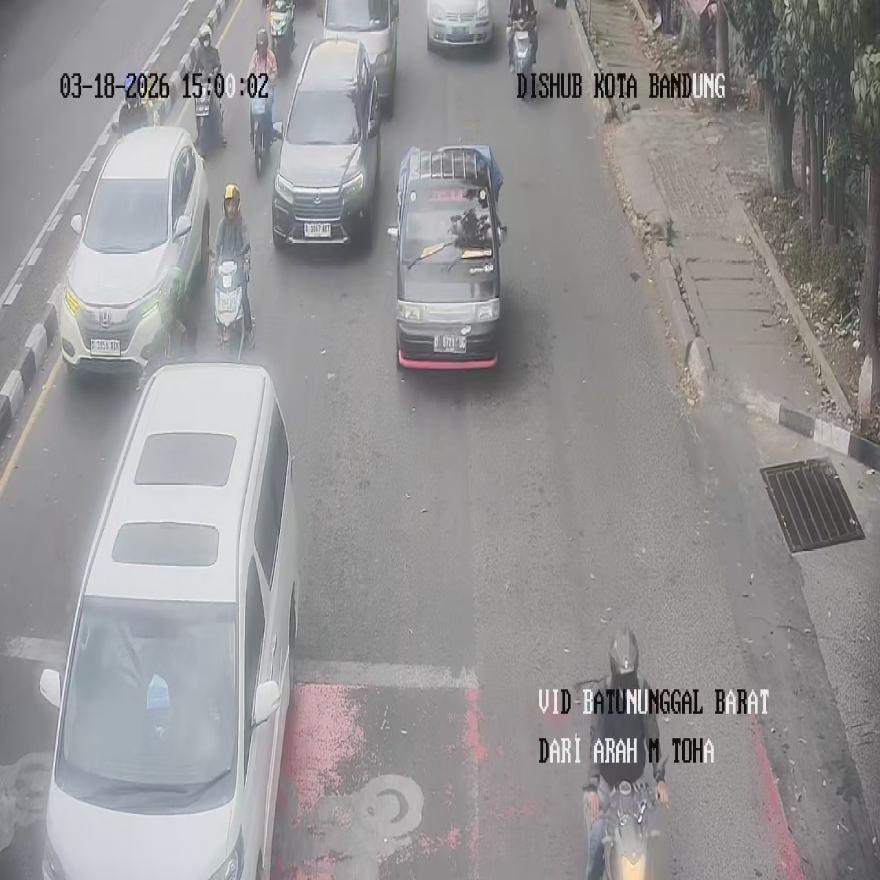Mobil: (38, 363, 299, 876), (60, 126, 210, 385), (389, 144, 505, 369), (270, 35, 380, 250), (317, 0, 399, 115), (425, 0, 491, 51)
Motor: (583, 755, 668, 880), (212, 245, 252, 360), (192, 68, 225, 156), (266, 0, 296, 71), (508, 23, 536, 99), (250, 84, 273, 176)
